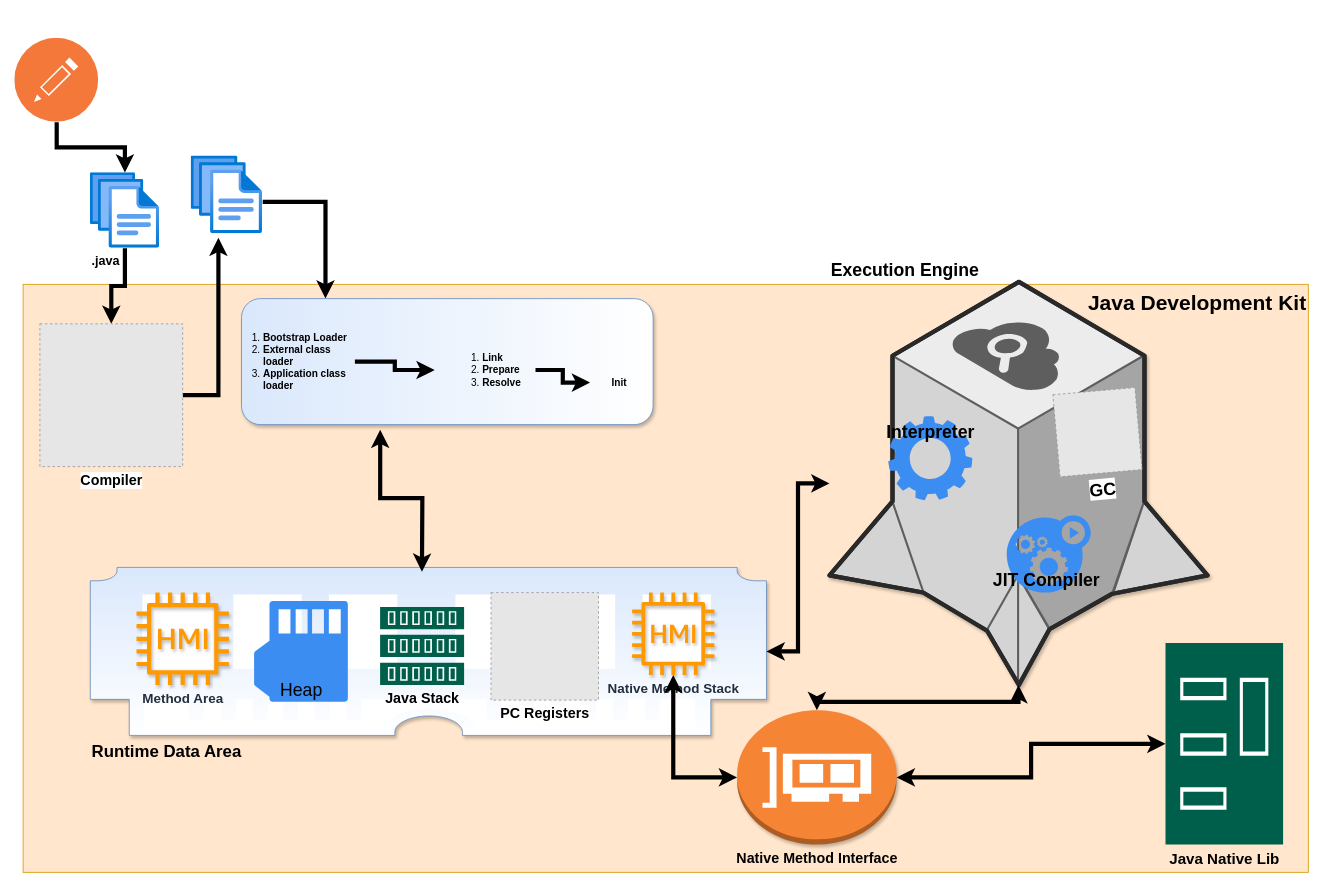
Image size: 1323x887. Some labels were removed from this diagram. Grey dashed boxes stand in for pictures. The centre of each missing label's shape, as x and y in pixels:
".class" belongs at point (226, 194).
"Class Loader Subsystem" belongs at point (447, 362).
"STS" belongs at point (56, 80).
